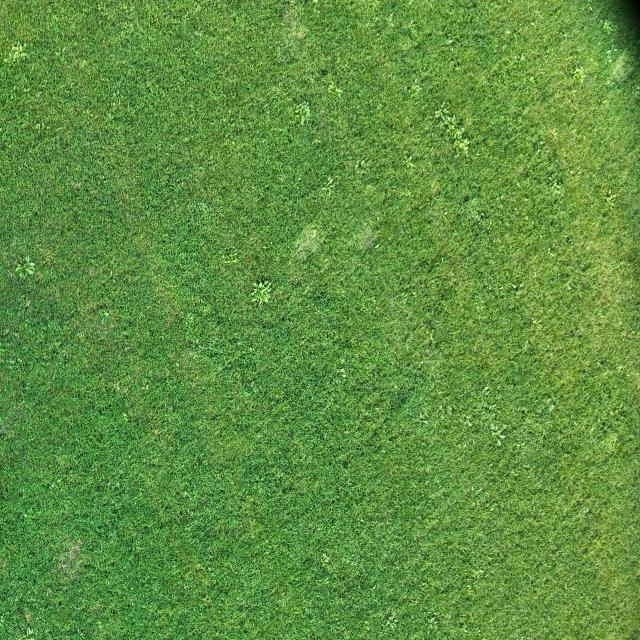rumex: (428, 101, 478, 163), (290, 97, 321, 129), (248, 275, 278, 308), (13, 252, 38, 285), (543, 169, 569, 199), (486, 421, 510, 449), (382, 607, 402, 638), (320, 172, 343, 198), (570, 62, 590, 91), (6, 40, 28, 66), (600, 186, 621, 212), (324, 76, 346, 100), (599, 17, 619, 40), (421, 612, 440, 634), (318, 548, 335, 572), (30, 116, 50, 136), (402, 148, 417, 174), (333, 364, 354, 382), (414, 408, 431, 425), (459, 411, 474, 430)
